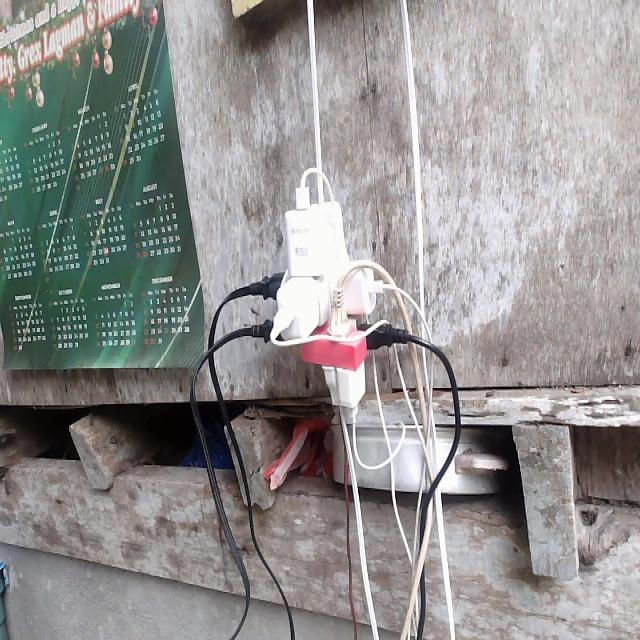-: (256, 171, 401, 425)
